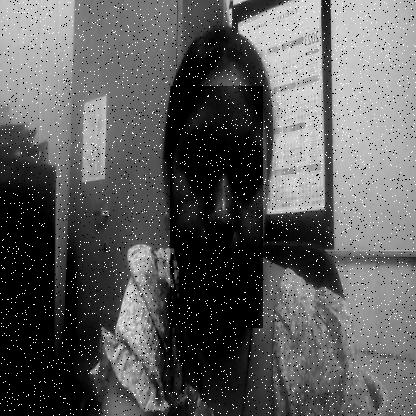Normal: (170, 86, 263, 328)
